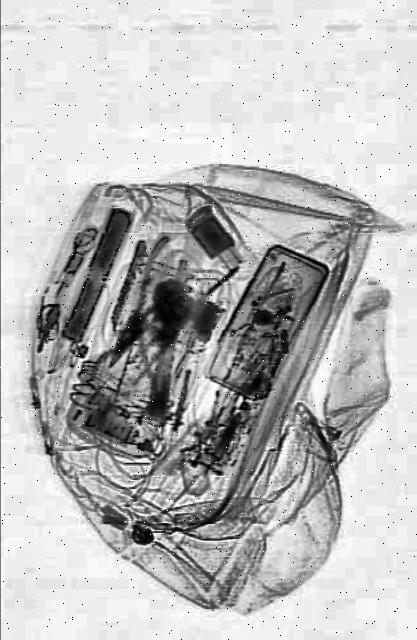Pliers: (95, 233, 194, 385)
